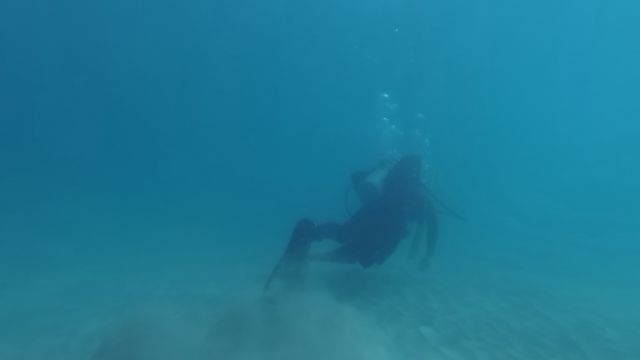Diver: (254, 144, 444, 303)
Hand: (414, 252, 437, 280)
